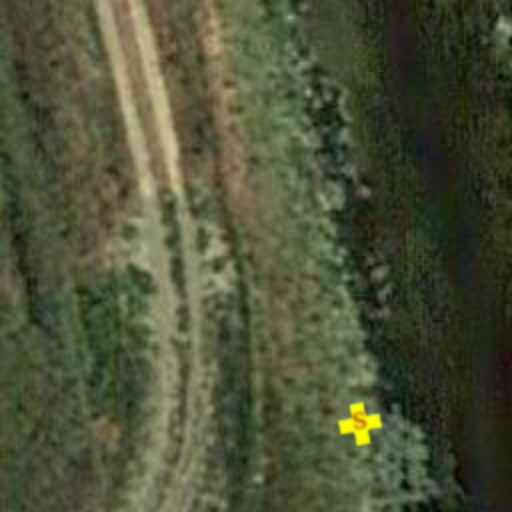cross: (334, 398, 386, 450)
